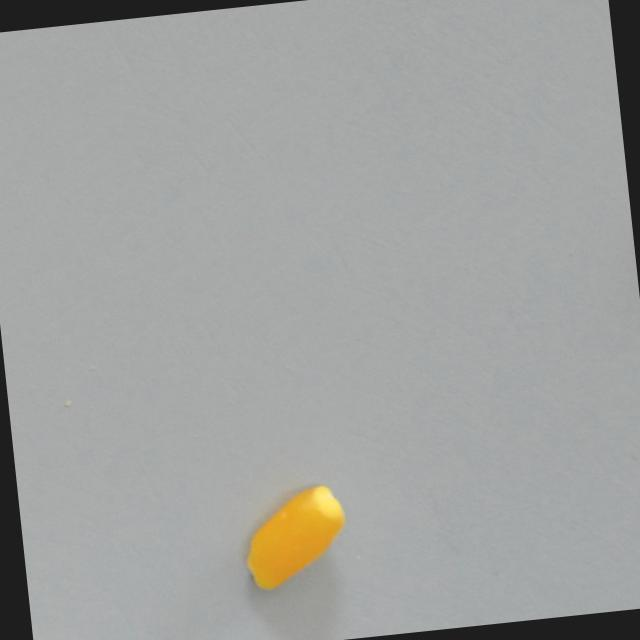estandar: (233, 467, 357, 599)
